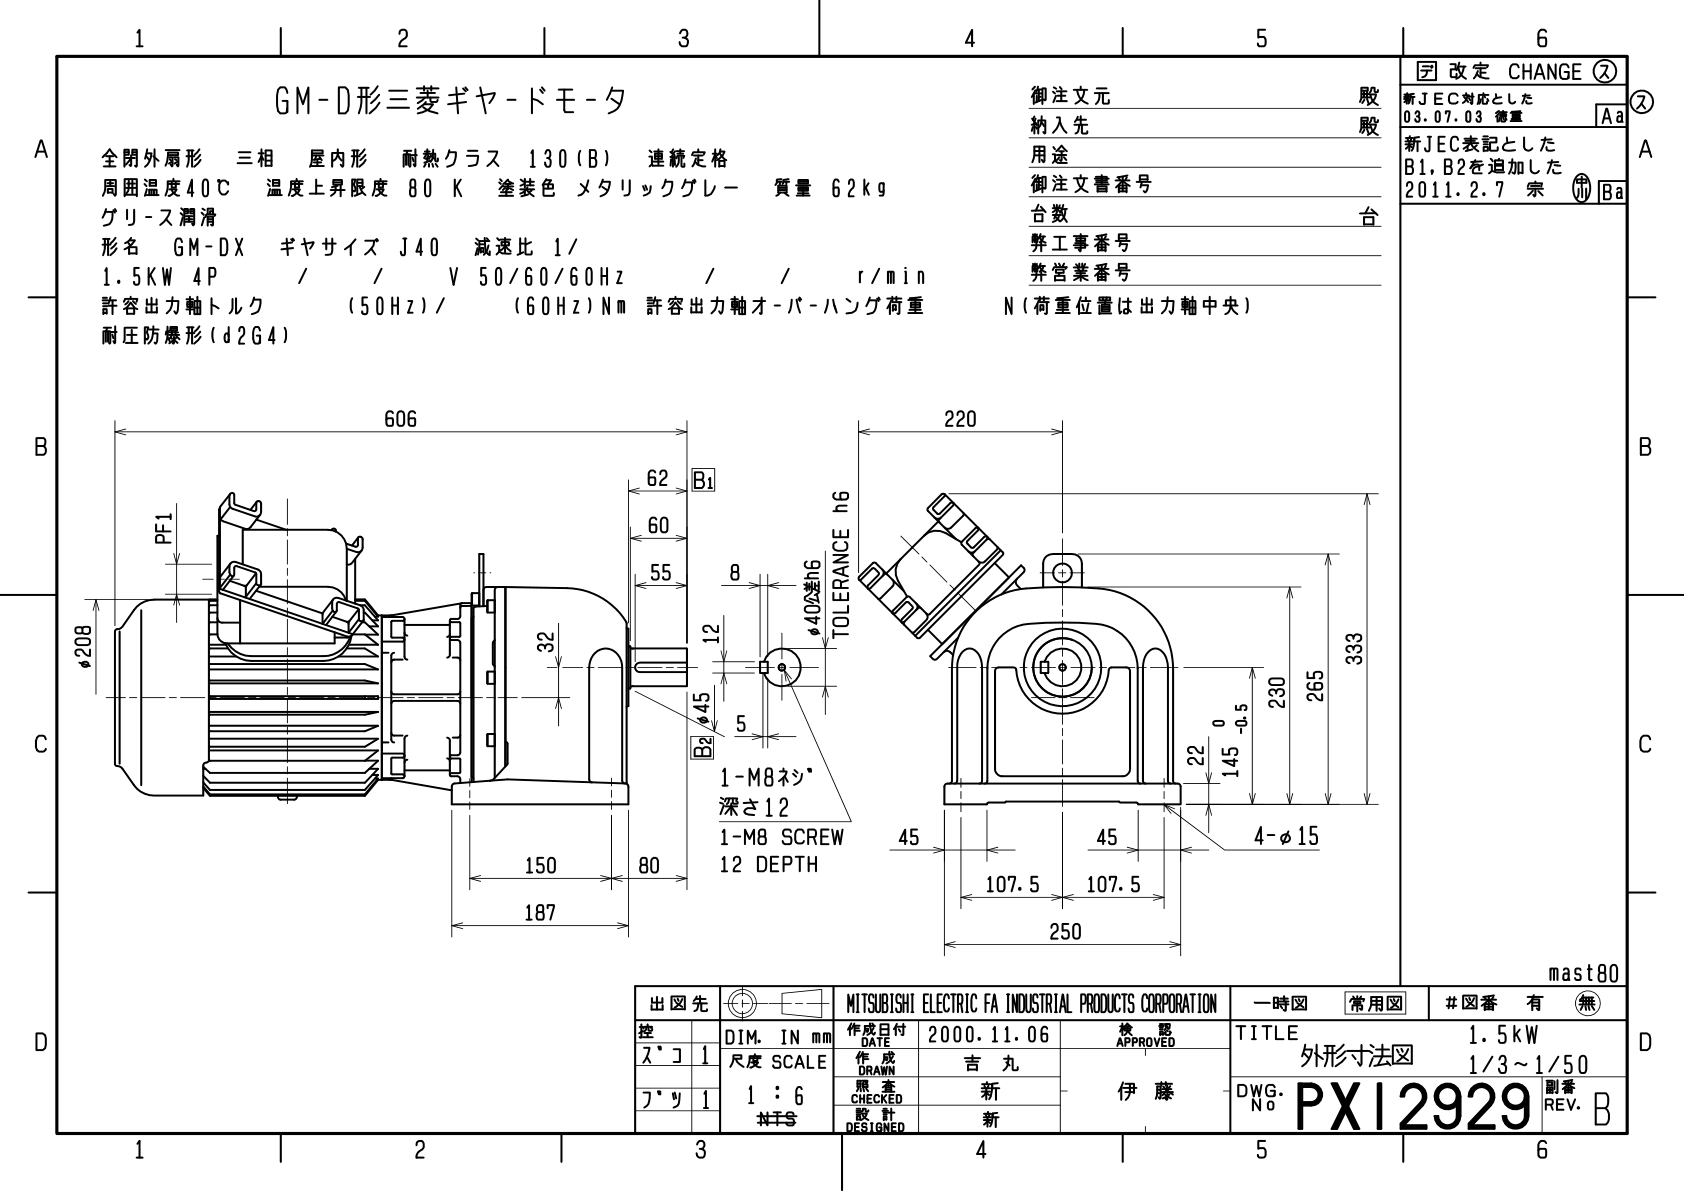GM_D_耐圧屋内_三相_脚: (1, 6, 1674, 1176)
